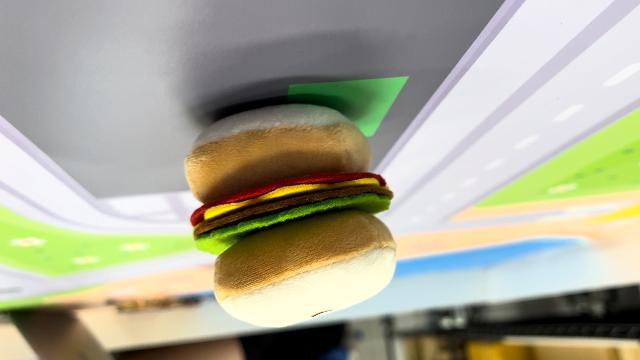sandwich: (180, 100, 400, 328)
